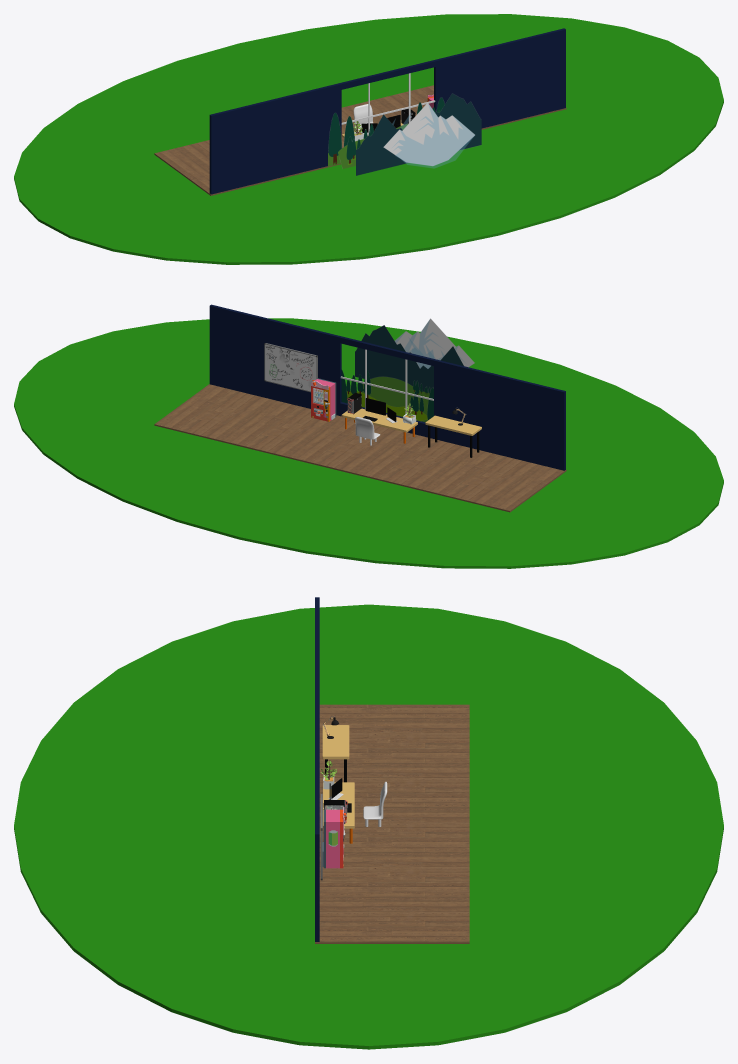
3 renders of one model, top to bottom at view 1: azimuth 30°, elevation 25°; view 2: azimuth 150°, elevation 25°; view 3: azimuth 270°, elevation 25°, orthographic. The views are drawn at different scales.
Visible parts, largest first — view 1: Circle, Plane, Cube.009, mountain1, mountain2, pradera3, pradera1; view 2: Circle, Cube.009, Plane, mountain2, Whiteboard, mountain1, pradera1, group1848869498, pradera2, Cube, Cube.003; view 3: Circle, Cube.009, Plane, group1848869498, Cube.003.
Part boxes in pixels (left/top/right/bottom): Circle: left=14, top=14, right=723, bottom=264; Plane: left=209, top=28, right=565, bottom=194; Cube.009: left=154, top=85, right=566, bottom=195; mountain1: left=383, top=103, right=474, bottom=168; mountain2: left=356, top=93, right=481, bottom=175; pradera3: left=328, top=97, right=444, bottom=166; pradera1: left=338, top=123, right=408, bottom=168; Circle: left=14, top=318, right=723, bottom=568; Cube.009: left=154, top=384, right=566, bottom=512; Plane: left=209, top=304, right=565, bottom=470; mountain2: left=355, top=325, right=463, bottom=392; Whiteboard: left=264, top=343, right=317, bottom=392; mountain1: left=395, top=318, right=474, bottom=368; pradera1: left=361, top=376, right=433, bottom=415; group1848869498: left=311, top=378, right=336, bottom=421; pradera2: left=346, top=370, right=427, bottom=421; Cube: left=341, top=408, right=417, bottom=432; Cube.003: left=425, top=415, right=481, bottom=435; Circle: left=14, top=604, right=723, bottom=1049; Cube.009: left=315, top=704, right=469, bottom=943; Plane: left=315, top=597, right=319, bottom=941; group1848869498: left=322, top=807, right=346, bottom=868; Cube.003: left=322, top=725, right=349, bottom=759.
Bounding box in the file's own units: 44.16 × 6.48 × 30.01.
Materials: 64 (7 with a texture image).
